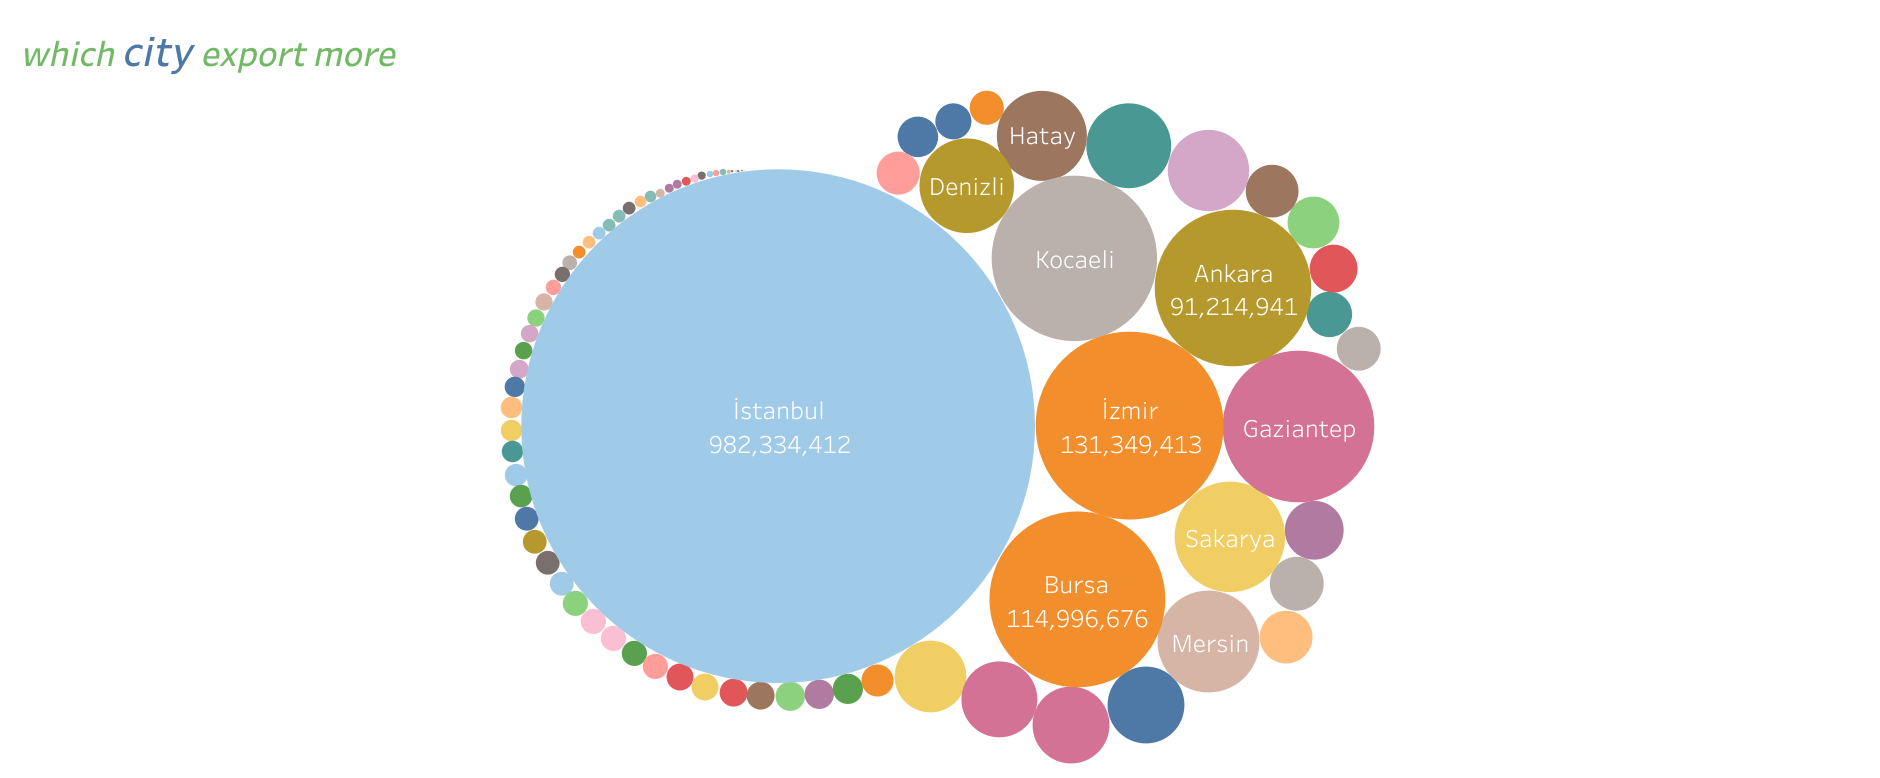

This screenshot's page, from the dashboard's own definition file:
{"tool":"tableau","page":{"name":"CİTY EXPORT","canvas":[1000,1000],"units":"permille","ordinal":0},"visuals":[{"type":"worksheet","title":"turkish_export cities","mark":"Circle","box":[5.3,9.4,989.4,981.2]}]}

Visuals, with their boxes on the dashboard's canvas, which has no fixed pixel size, in thousandths of its width and height (x1, y1, x2, y2). These are canvas units, not pixel positions in the 1880x778 screenshot, which may show the page scaled, cropped or inside an application window:
"turkish_export cities" worksheet (Circle marks): [5,9,995,991]
